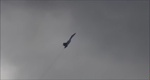maybay_muctieu: (63, 31, 77, 51)
